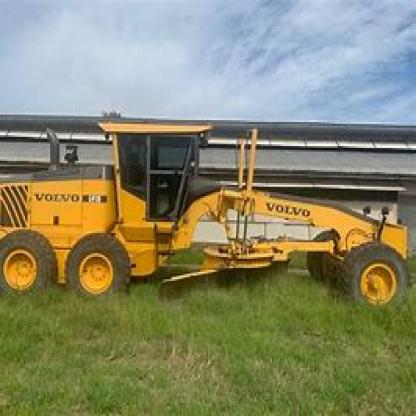bull_dozer/loader/grader: (5, 113, 414, 312)
